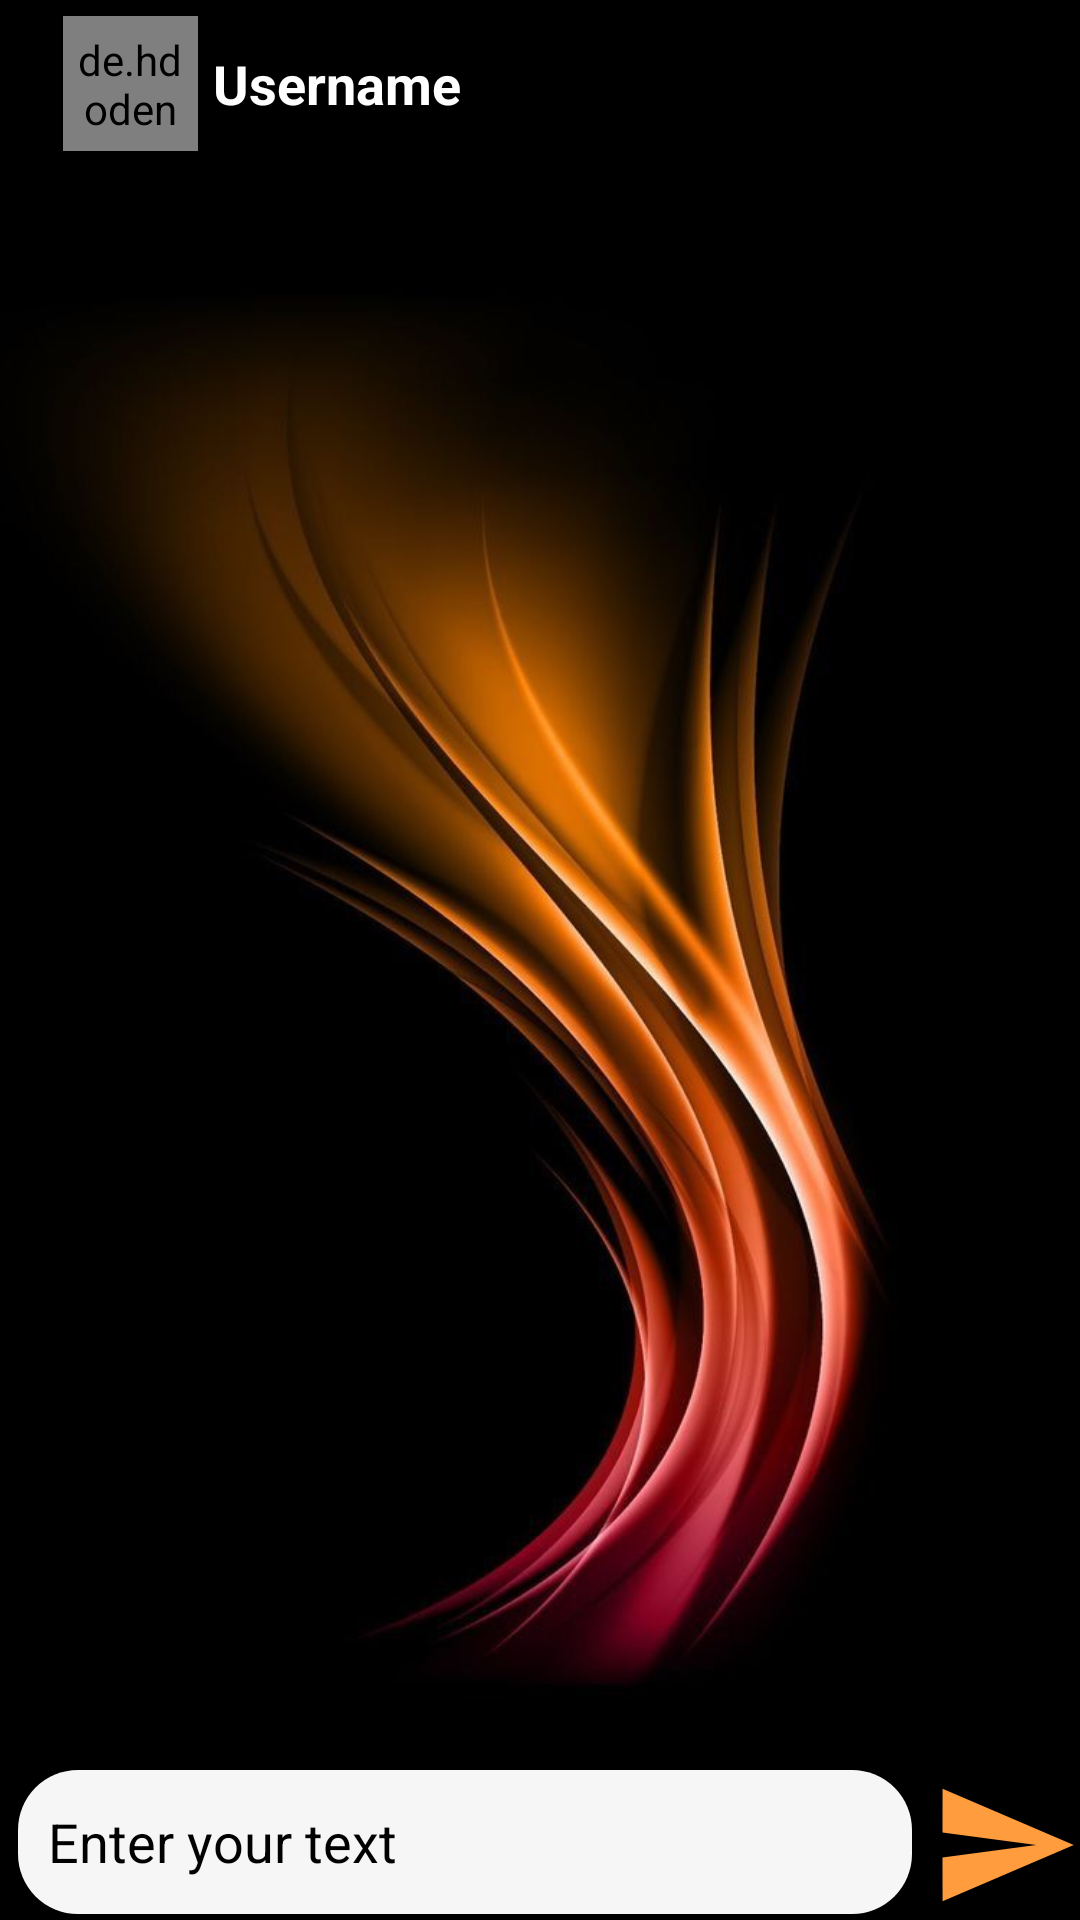

Where icons sit on this 1080*1920 app screen, as (x1, y1, x2, y2):
send: (942, 1789, 1074, 1901)
